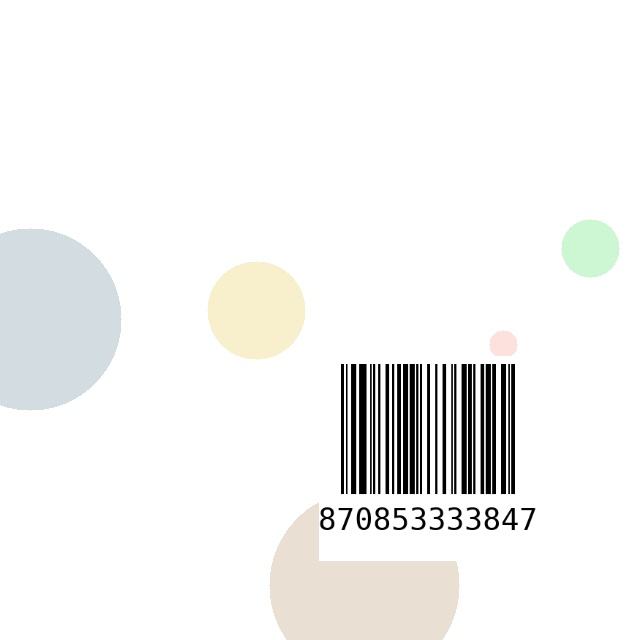barcode: (319, 356, 537, 561)
